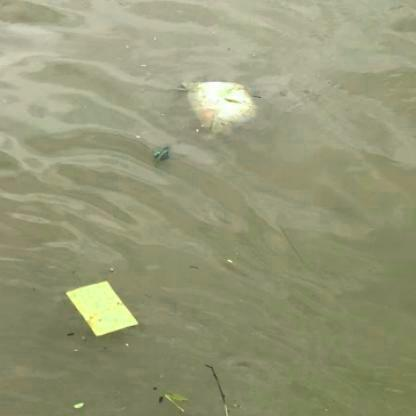Trash: (174, 72, 272, 136), (62, 278, 141, 341)
